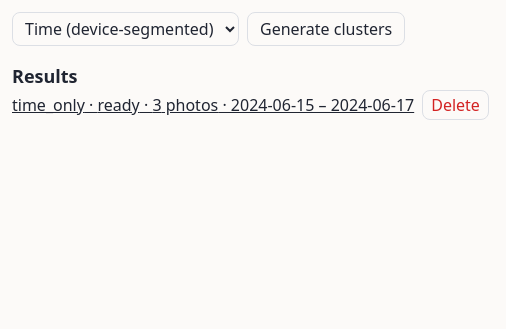
Test: ClusterView › opens a result and renders its tree as a nested list
Click the button with test id "result-row" at coordinates (213, 105), box top-left (12, 93), bottom-right (414, 117)
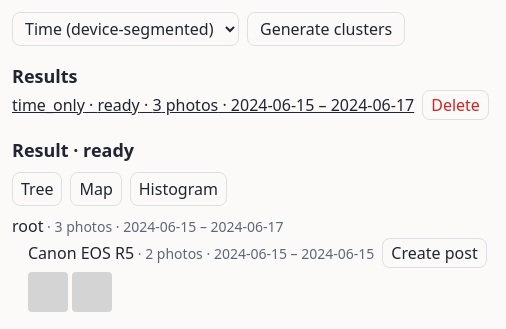
Expected: the text "Canon EOS R5" is shown, top-left (28, 242), bottom-right (134, 264)
